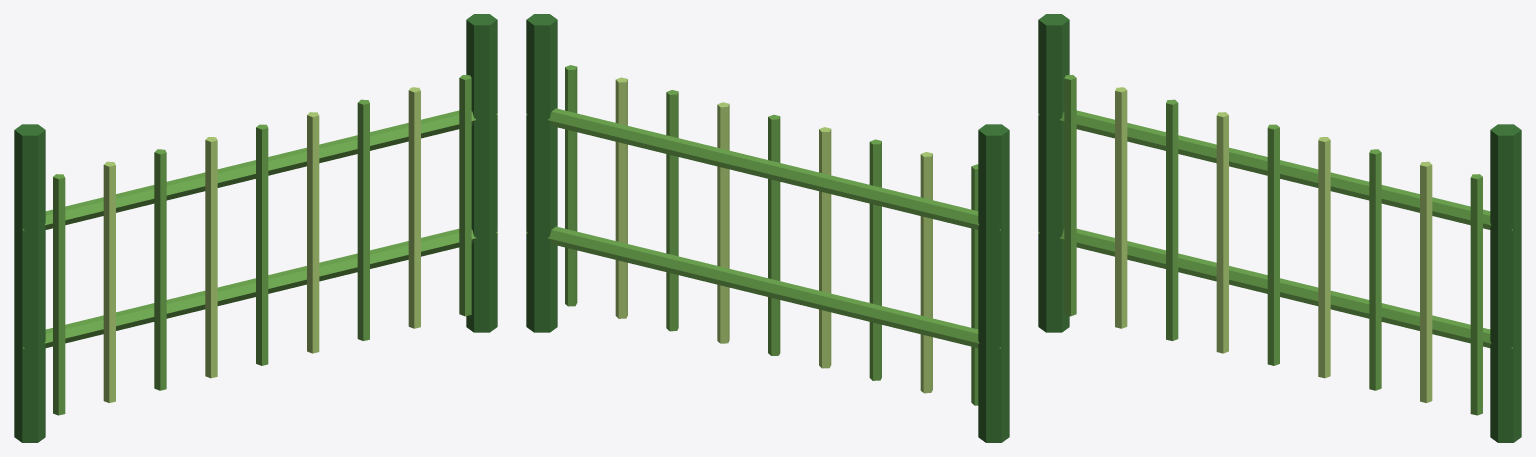
The model's file is fence_bamboo.glb.
The picture shows the model from 3 angles, left to right: view 1: azimuth 30°, elevation 25°; view 2: azimuth 150°, elevation 25°; view 3: azimuth 330°, elevation 25°; orthographic projection.
Parts seen in each view (by area): view 1: Fence; view 2: Fence; view 3: Fence.
Part boxes in pixels (x1=…): Fence: x1=14, y1=14, x2=497, y2=442; Fence: x1=526, y1=14, x2=1009, y2=442; Fence: x1=1038, y1=14, x2=1521, y2=442.
Size of what is drawn, in the model's own units: 2.1 by 1.3 by 0.1302.
